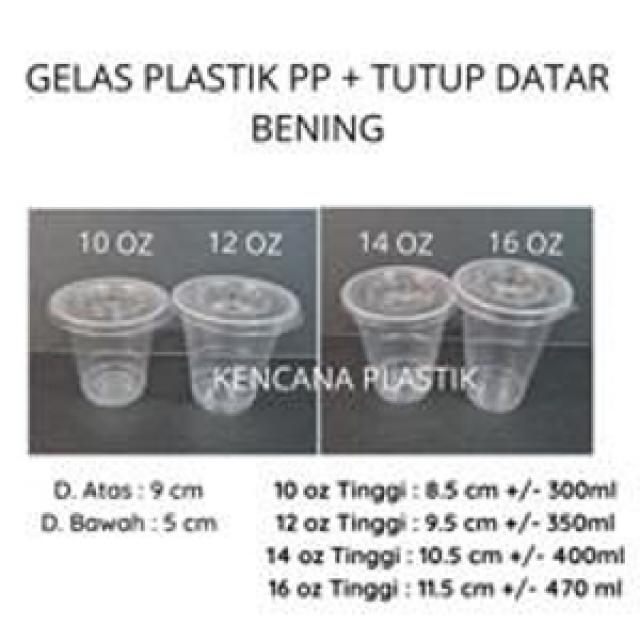plastic cup: (452, 254, 576, 418), (173, 271, 307, 420), (45, 269, 166, 412), (337, 260, 452, 410)
